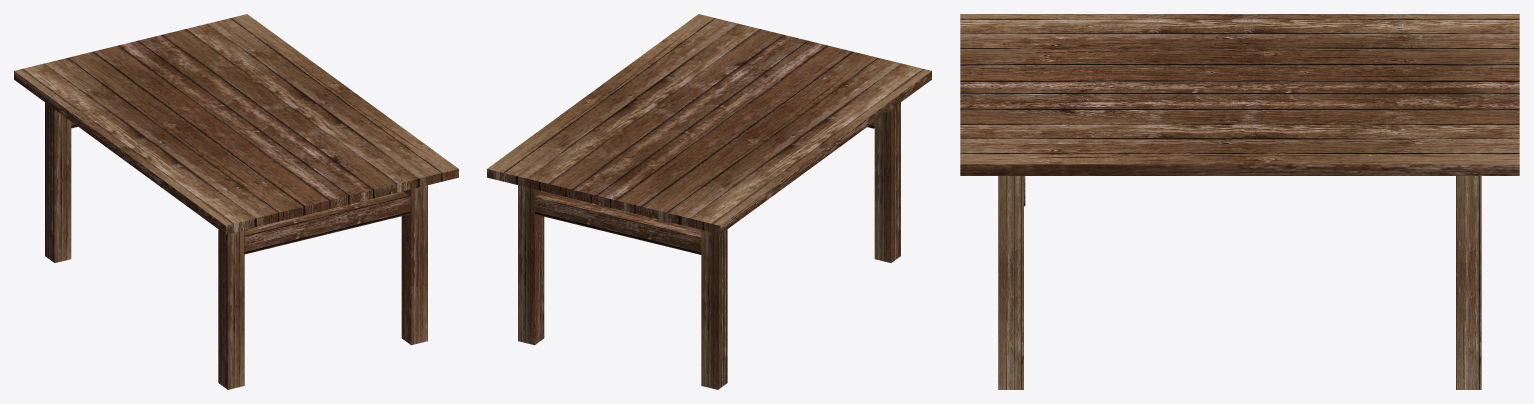
The model's file is tafel.glb.
3 renders of one model, left to right at view 1: azimuth 30°, elevation 25°; view 2: azimuth 150°, elevation 25°; view 3: azimuth 270°, elevation 25°, orthographic. The views are drawn at different scales.
Parts seen in each view (by area): view 1: Platte, Bein, object 2, Bein_3, Bein_2; view 2: Platte, object 1, Bein_3, Bein, Bein_4; view 3: Platte, Bein_2, Bein_4.
Part boxes in pixels (x1,y1,x2,y2): Platte: (14, 14, 458, 234); Bein: (218, 229, 244, 389); object 2: (244, 191, 410, 254); Bein_3: (45, 102, 71, 262); Bein_2: (401, 185, 427, 345); Platte: (487, 14, 931, 234); object 1: (535, 191, 701, 254); Bein_3: (701, 229, 727, 389); Bein: (874, 102, 900, 262); Bein_4: (518, 185, 544, 345); Platte: (960, 14, 1519, 175); Bein_2: (998, 176, 1023, 389); Bein_4: (1456, 176, 1481, 389).
Size of the model in its own units: 1.13 by 0.8244 by 1.77.
7 materials, 7 textured.
